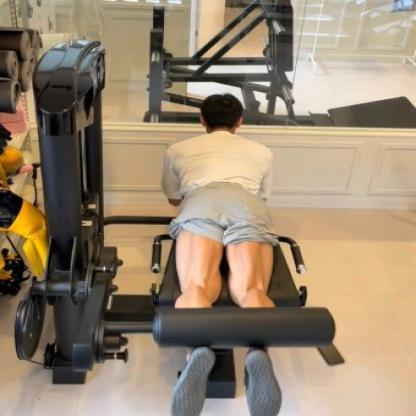reg curl machine: (11, 32, 348, 416)
